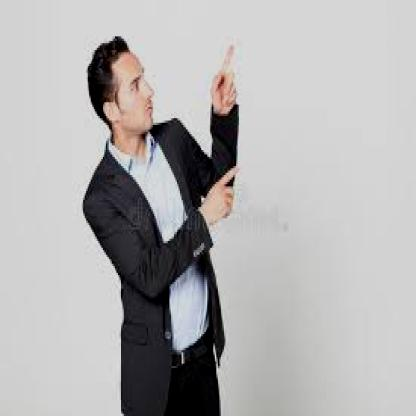Left: (194, 157, 245, 233)
Up: (202, 30, 252, 139)
